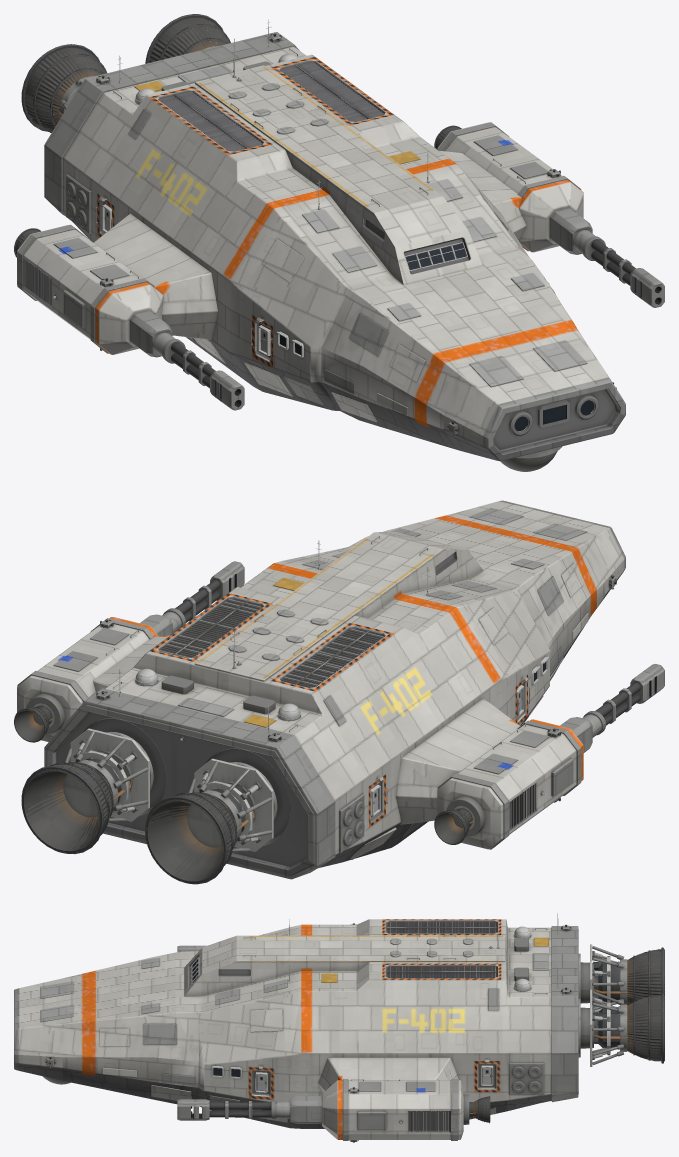
File: fighter.glb
3 views of the same model, one above another, from view 1: azimuth 30°, elevation 25°; view 2: azimuth 150°, elevation 25°; view 3: azimuth 270°, elevation 25° (orthographic). The views are drawn at different scales.
Parts seen in each view (by area): view 1: hull, parts_bell-L, parts_pane; view 2: hull, parts_bell-L, parts_bell-S, parts_dome; view 3: hull, parts_bell-L, parts_door, parts_bell-S, parts_dome.
Boxes of the visible parts, x1,y1,x2,y2 form: hull: (17, 32, 664, 471); parts_bell-L: (21, 14, 230, 132); parts_pane: (405, 242, 467, 271); hull: (17, 500, 664, 879); parts_bell-L: (21, 728, 273, 884); parts_bell-S: (14, 703, 474, 844); parts_dome: (135, 668, 300, 721); hull: (14, 919, 627, 1142); parts_bell-L: (590, 944, 664, 1066); parts_door: (255, 1065, 493, 1092); parts_bell-S: (469, 1096, 490, 1123); parts_dome: (513, 926, 531, 991).
Size of the model in its own units: 46.9 by 20.84 by 71.76.
Materials: 10 (10 with a texture image).
